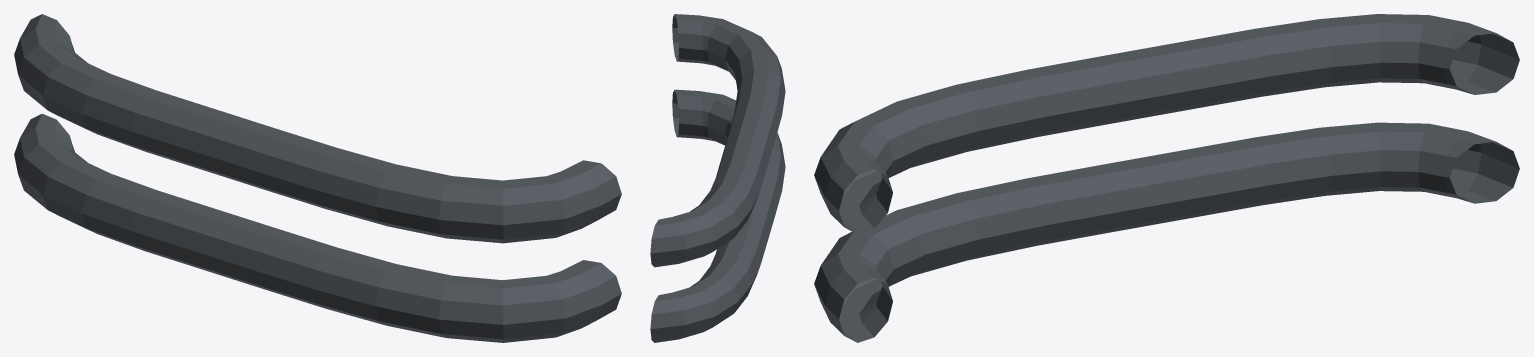
The model's file is Fighter_08_Pipe_Yellow.fbx.
3 views of the same model, side by side, from view 1: azimuth 30°, elevation 25°; view 2: azimuth 150°, elevation 25°; view 3: azimuth 270°, elevation 25° (orthographic). The views are drawn at different scales.
Parts seen in each view (by area): view 1: Fighter_08_Pipe_Yellow; view 2: Fighter_08_Pipe_Yellow; view 3: Fighter_08_Pipe_Yellow.
Part boxes in pixels (box(x1,y1,x2,y2)): Fighter_08_Pipe_Yellow: box(14, 14, 621, 342); Fighter_08_Pipe_Yellow: box(650, 14, 785, 342); Fighter_08_Pipe_Yellow: box(814, 14, 1519, 342).
Size of the model in its own units: 271 by 120 by 455.
Materials: 1 (1 with a texture image).
